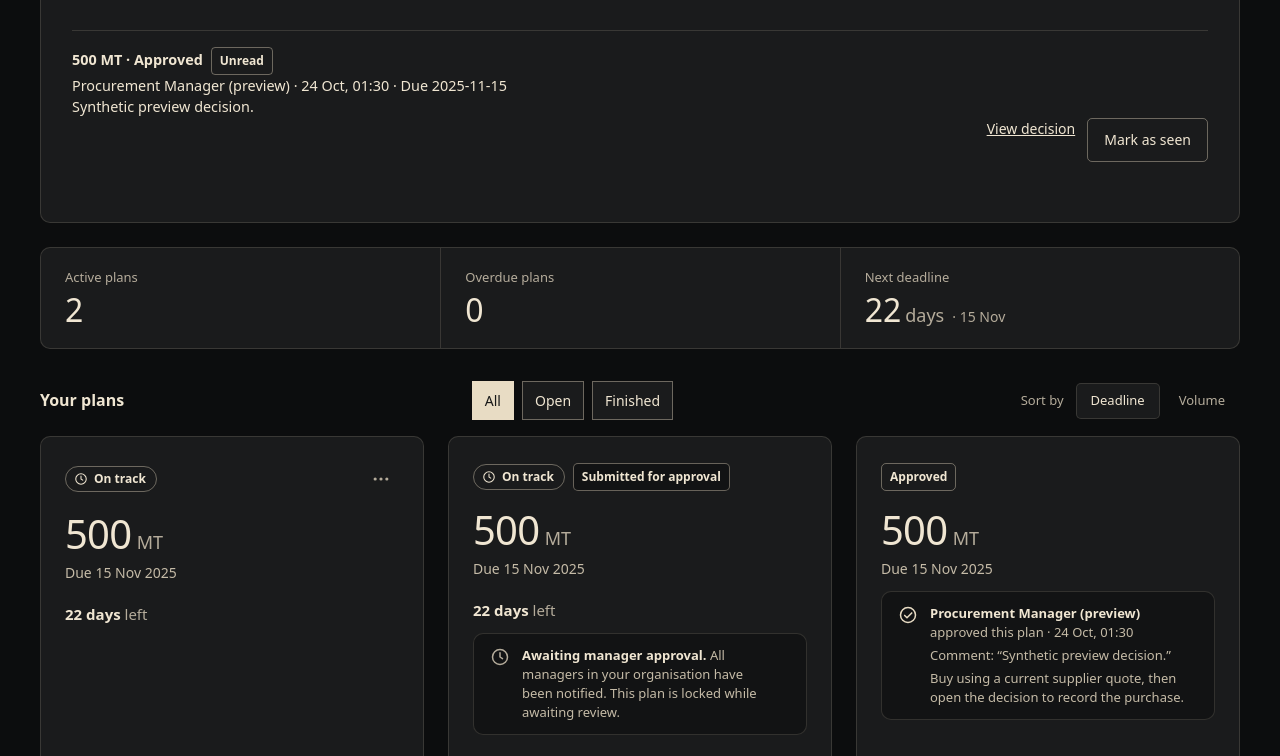
counts only drafts and submitted plans as active and filters finished records
(page scrolled)
Click the button "Finished" at point(633, 401), box [592,381,673,420]
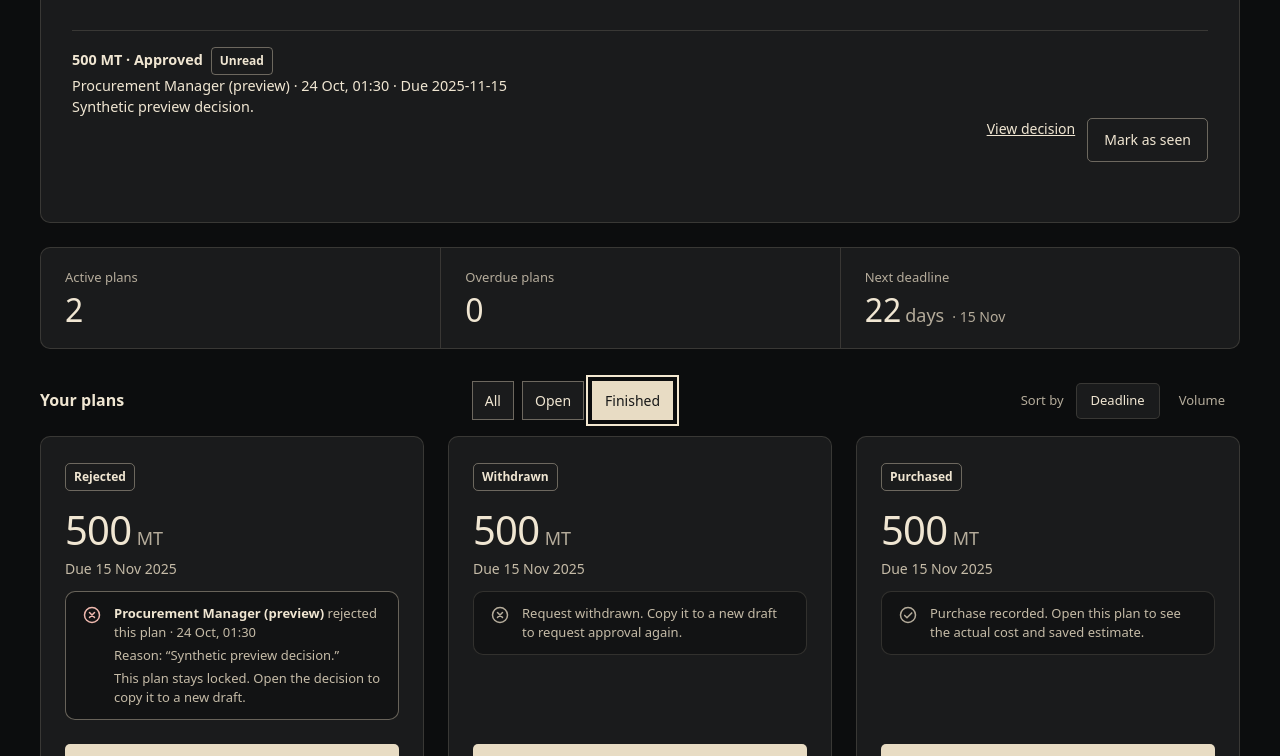
Expected: the text "Purchased" is shown, [881,463,962,491]
Expected: the text "Withdrawn" is shown, [473,463,558,491]
Click the button "Open" at point(553, 401), box [522,381,584,420]
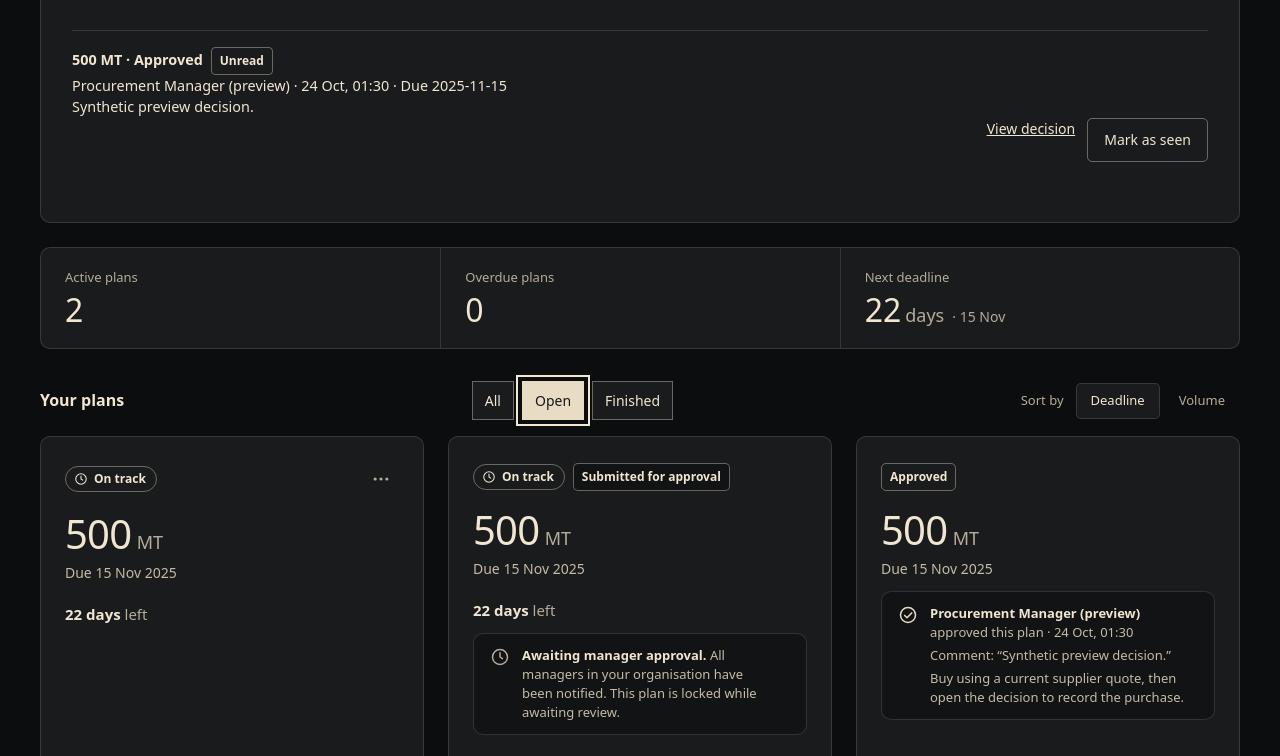
Expected: the text "Approved" is shown, [881,463,956,491]
Expected: the text "Purchased" is gone
